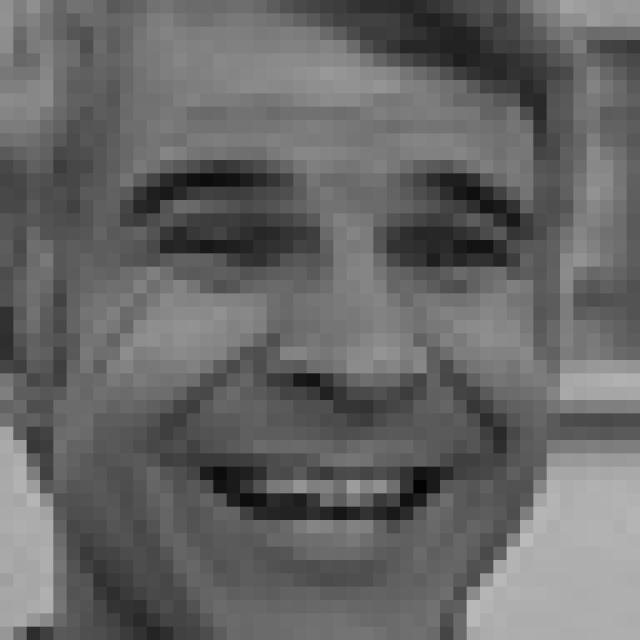happy: (106, 141, 539, 590)
